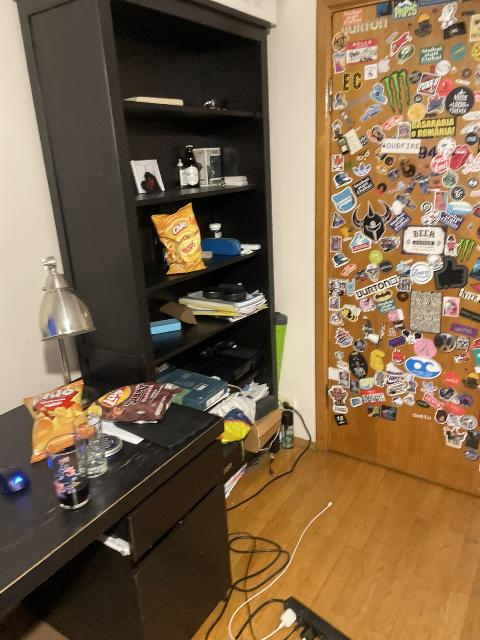Chio Cascaval 125g: (22, 382, 98, 464)
Chio Hula Hoops Cheese 70g: (150, 203, 208, 277)
Lays Beef Grilled Ribs 125g: (94, 382, 184, 423)
